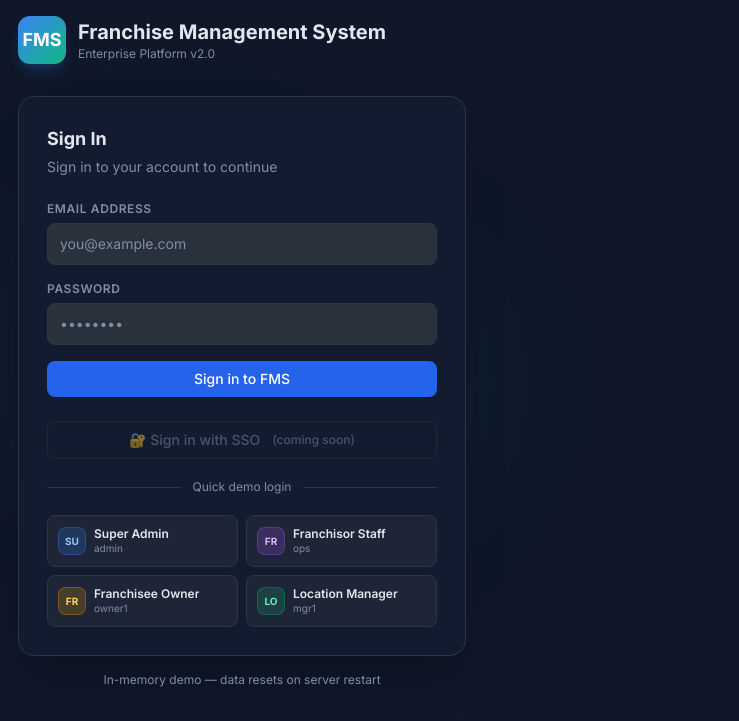
Authentication — Login & Logout › Form validation › shows error on wrong credentials
In the field labelled "Email Address": x=242, y=244 top-left (47, 223), bottom-right (437, 265), type "wrong@email.com"
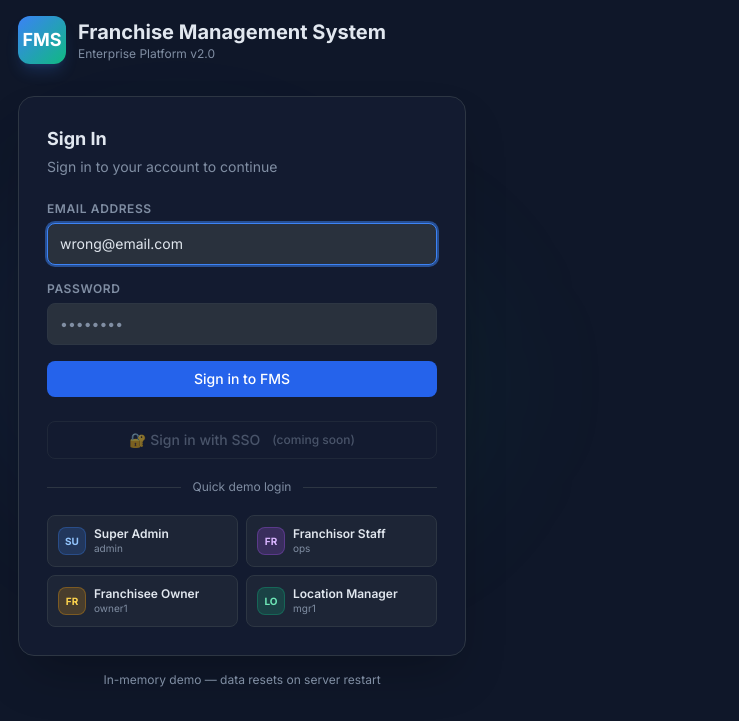
In the password field labelled "Password": x=242, y=324 top-left (47, 303), bottom-right (437, 345), type "wrongpassword"
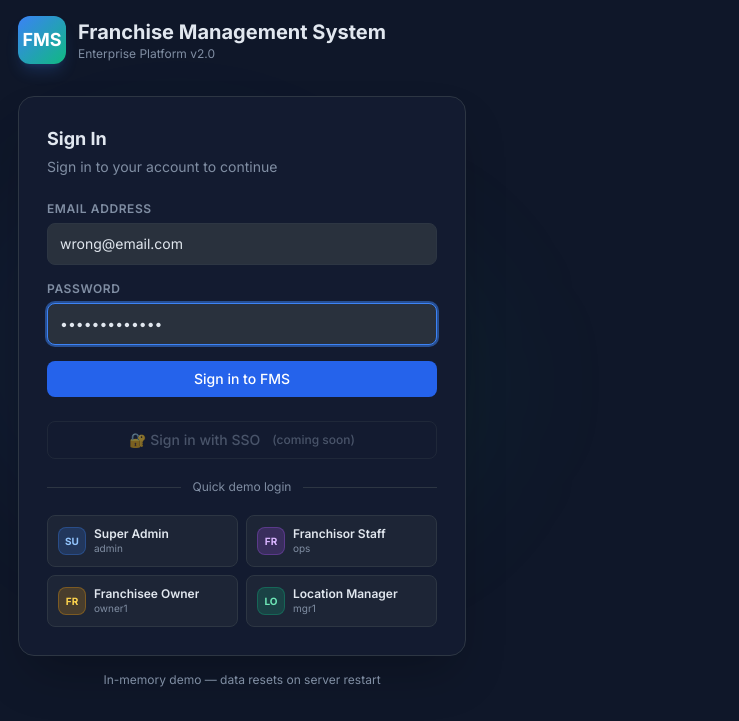
Click the button "Sign in to FMS": x=242, y=379 top-left (47, 361), bottom-right (437, 397)
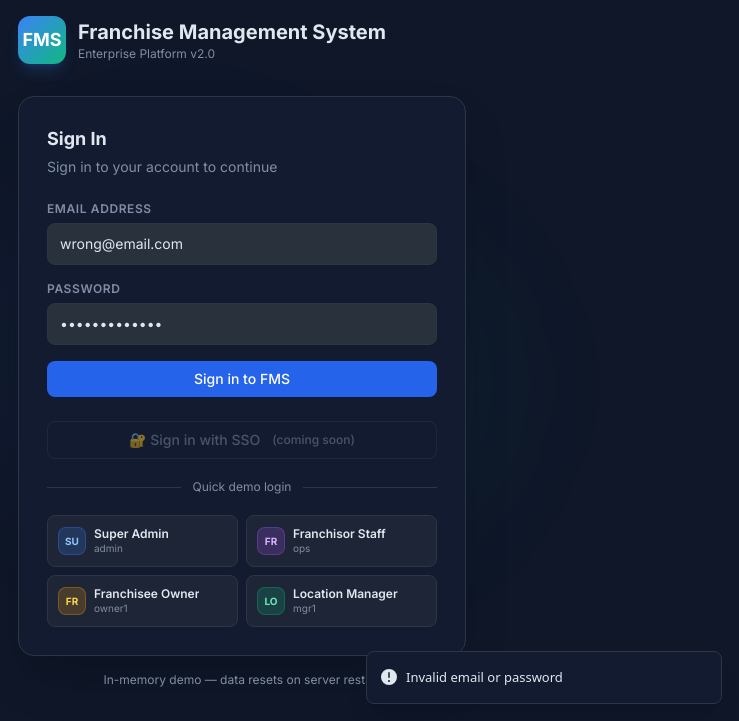
Expected: the text "Invalid email or password" is shown, top-left (406, 668), bottom-right (563, 687)
